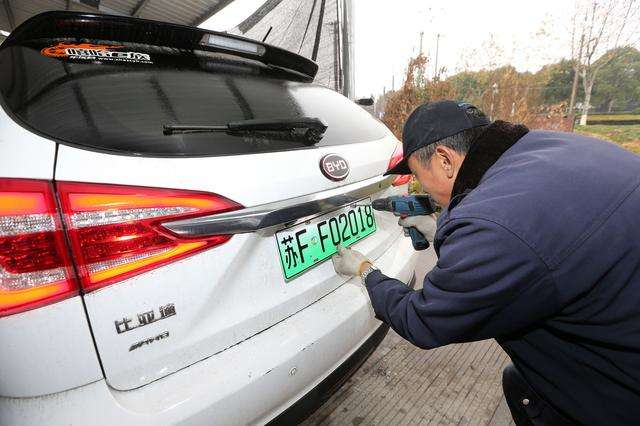plate: (265, 186, 390, 293)
